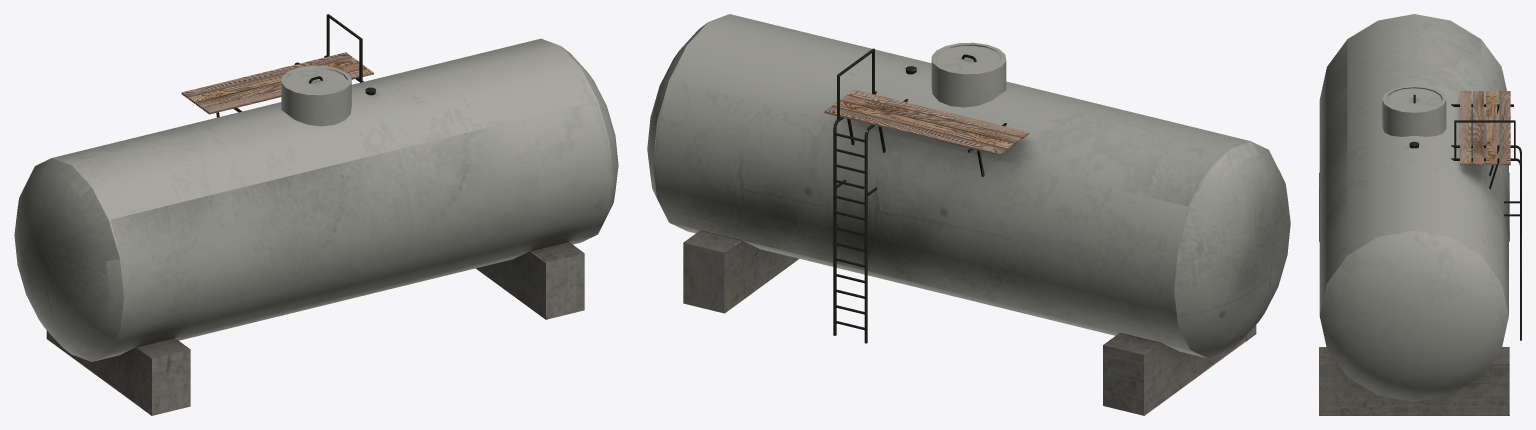
File: oiltank.fbx
The picture shows the model from 3 angles, left to right: view 1: azimuth 30°, elevation 25°; view 2: azimuth 150°, elevation 25°; view 3: azimuth 270°, elevation 25°; orthographic projection. The views are drawn at different scales.
Parts seen in each view (by area): view 1: tank; view 2: tank; view 3: tank.
Boxes of the visible parts, <box> form: tank: <box>14,14,618,415</box>; tank: <box>647,14,1290,415</box>; tank: <box>1319,14,1521,415</box>.
Bounding box in the file's own units: 2.36 × 1.03 × 0.8216.
1 material, 1 textured.
